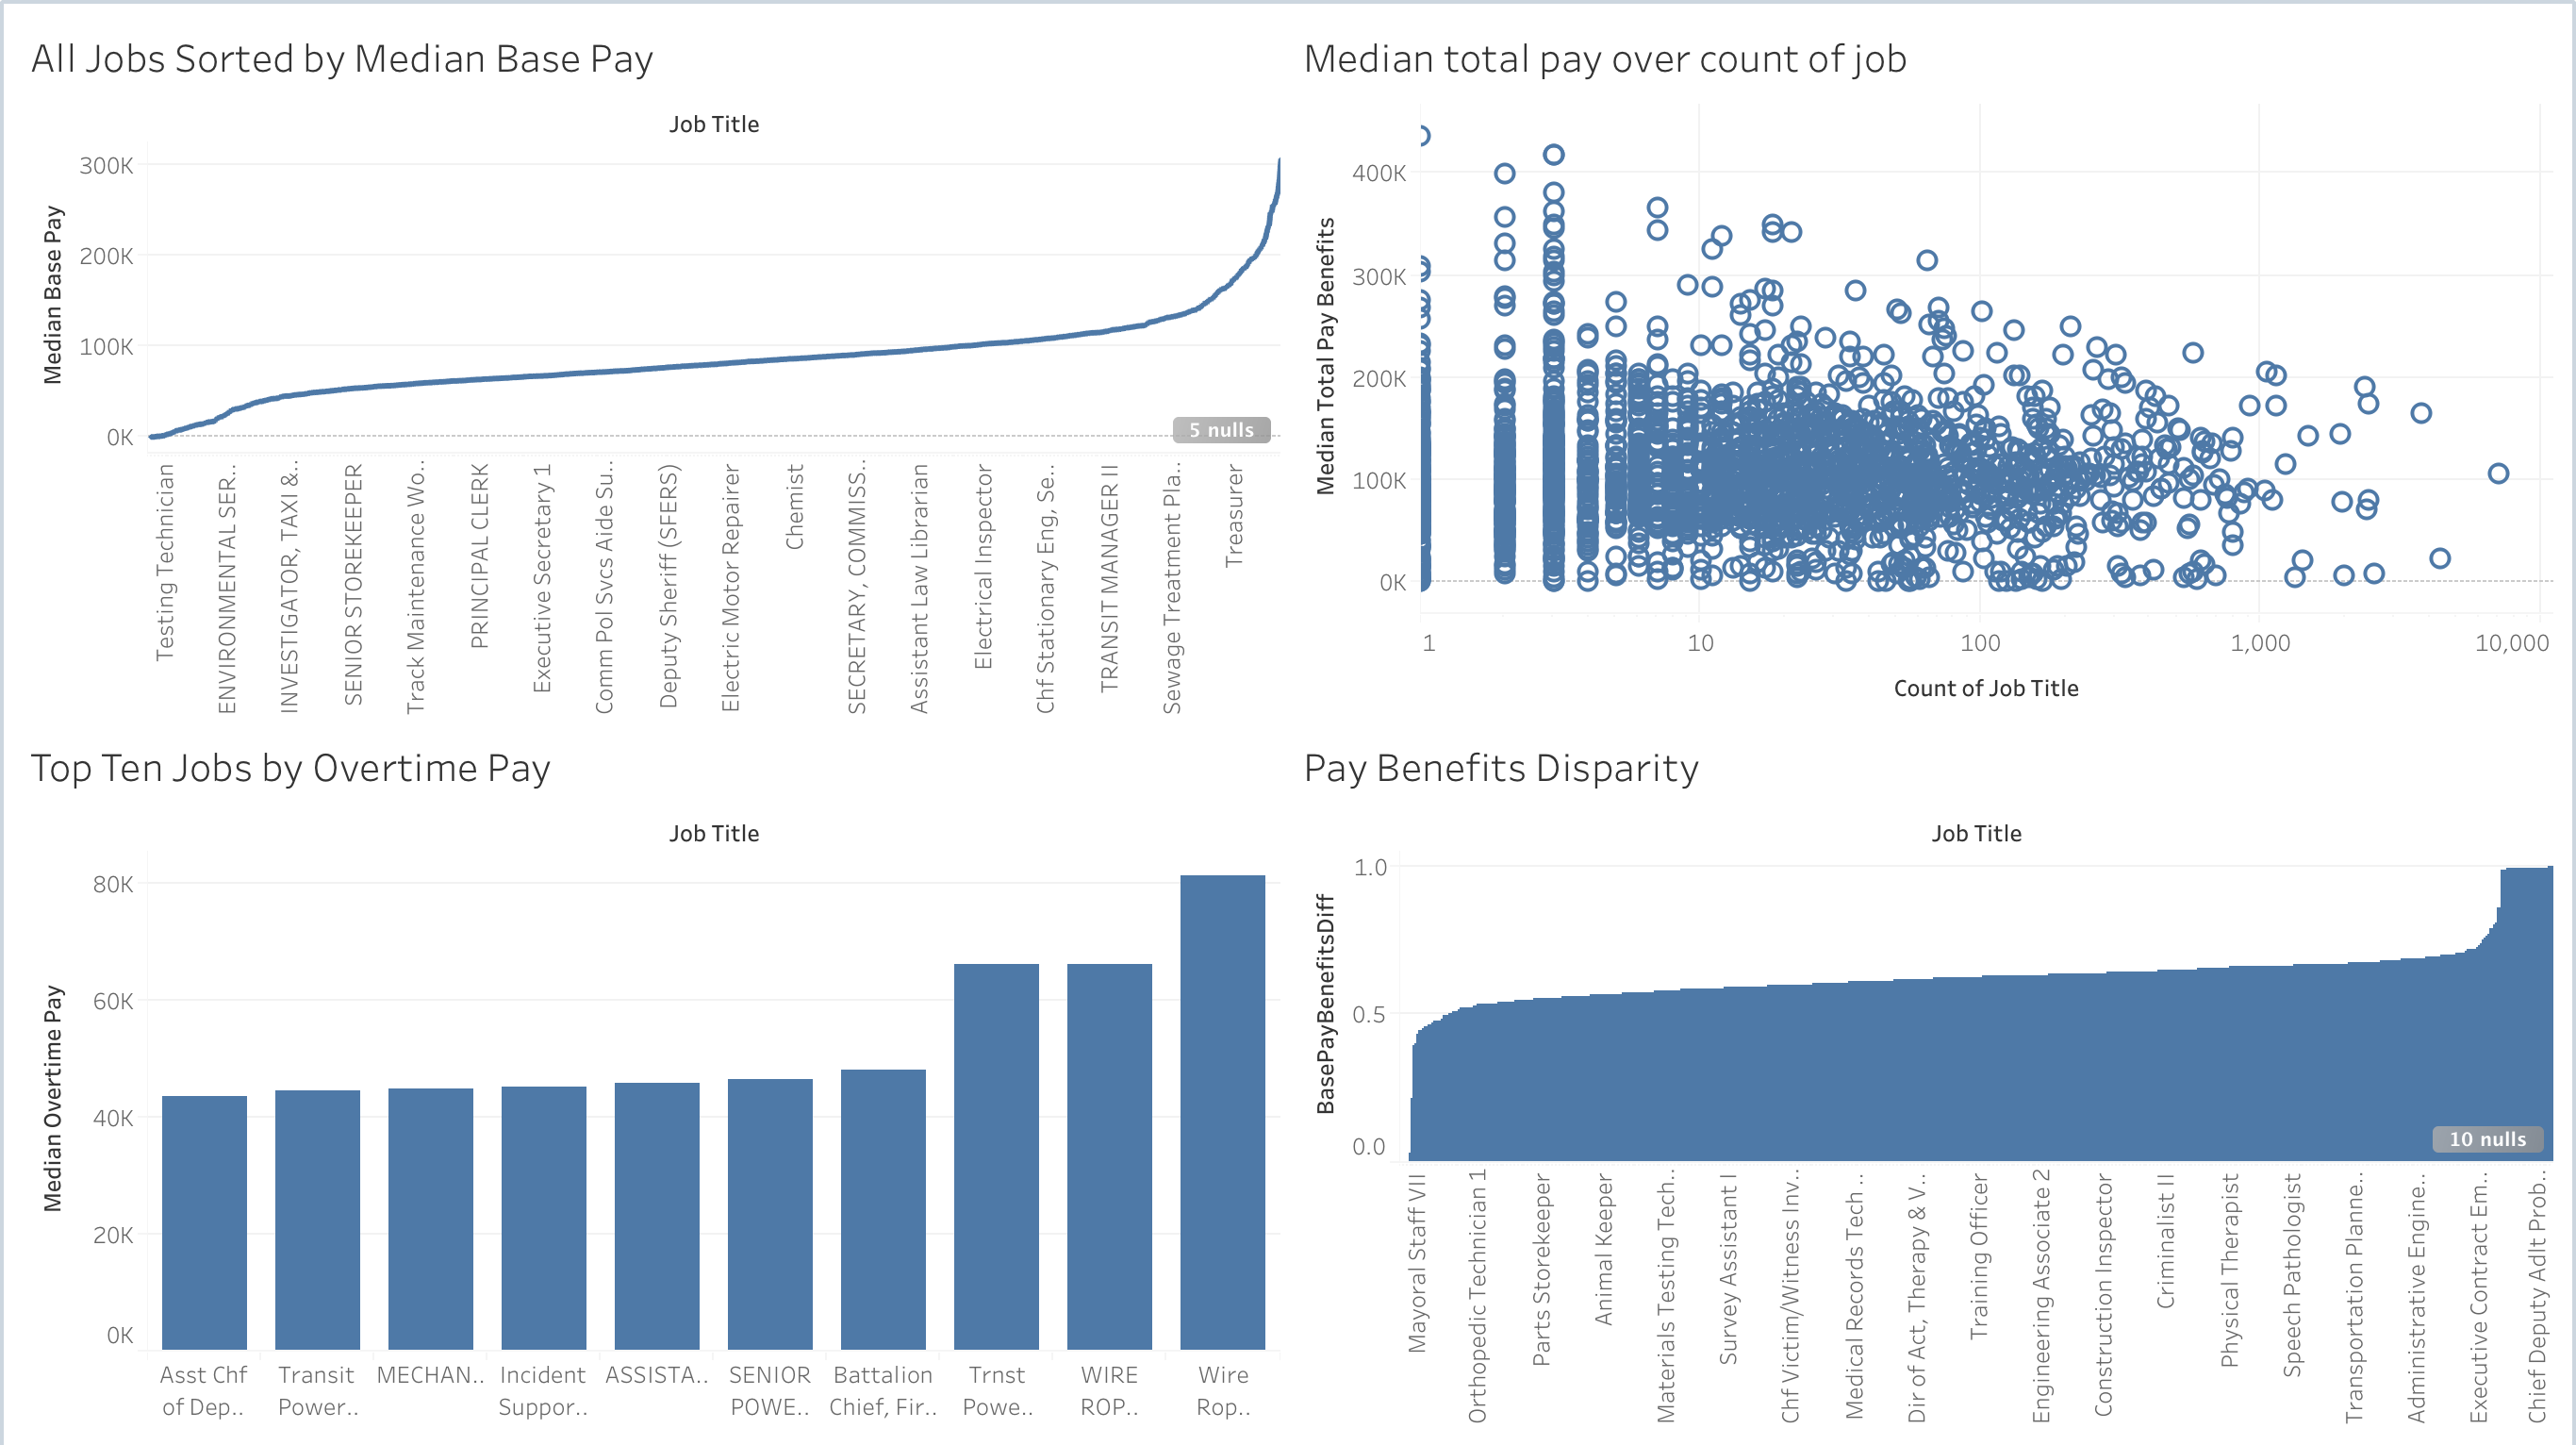

This screenshot's page, from the dashboard's own definition file:
{"tool":"tableau","page":{"name":"Dashboard","canvas":[1366,768],"ordinal":0},"visuals":[{"type":"worksheet","box":[0,0,1366,768]},{"type":"worksheet","param":"horz","box":[8,8,1350,752]},{"type":"worksheet","box":[8,8,1350,752]},{"type":"worksheet","title":"All Jobs Sorted by Median Base Pay","mark":"Line","rows":["BasePay"],"cols":["JobTitle"],"box":[8,8,675,376]},{"type":"worksheet","title":"Median total pay over count of job","mark":"Automatic","rows":["TotalPayBenefits"],"cols":["JobTitle"],"box":[683,8,675,376]},{"type":"worksheet","title":"Top Ten Jobs by Overtime Pay","mark":"Automatic","rows":["OvertimePay"],"cols":["JobTitle"],"box":[8,384,675,376]},{"type":"worksheet","title":"Pay Benefits Disparity","mark":"Automatic","rows":["Calculation_3207055550716616710"],"cols":["JobTitle"],"box":[683,384,675,376]}]}

Visuals, with their boxes in screenshot pixels (x1, y1, x2, y2), scaled from the page's 1366x768 canvas onto the 2576x1445 screenshot:
worksheet: box(0, 0, 2575, 1444)
worksheet: box(15, 15, 2561, 1430)
worksheet: box(15, 15, 2561, 1430)
"All Jobs Sorted by Median Base Pay" worksheet (Line marks): box(15, 15, 1288, 722)
"Median total pay over count of job" worksheet: box(1288, 15, 2561, 722)
"Top Ten Jobs by Overtime Pay" worksheet: box(15, 722, 1288, 1430)
"Pay Benefits Disparity" worksheet: box(1288, 722, 2561, 1430)
